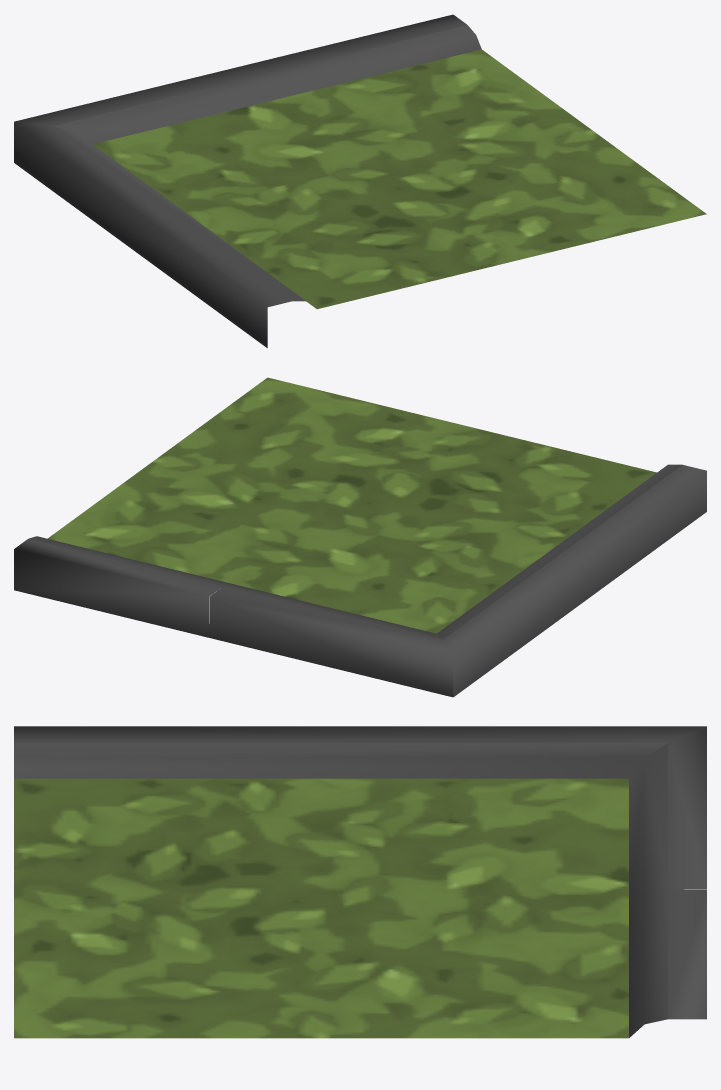
Rendered from Plateau_Corner_2.fbx.
3 views of the same model, one above another, from view 1: azimuth 30°, elevation 25°; view 2: azimuth 150°, elevation 25°; view 3: azimuth 270°, elevation 25° (orthographic). The views are drawn at different scales.
Visible parts, largest first — view 1: Plateau_Corner_2; view 2: Plateau_Corner_2; view 3: Plateau_Corner_2.
Boxes of the visible parts, left/top/right/bottom form: Plateau_Corner_2: left=14, top=14, right=706, bottom=347; Plateau_Corner_2: left=14, top=377, right=706, bottom=697; Plateau_Corner_2: left=14, top=726, right=706, bottom=1038.
Bounding box in the file's own units: 250 × 22.38 × 250.
